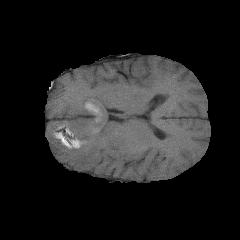glioma: (49, 96, 128, 171)
